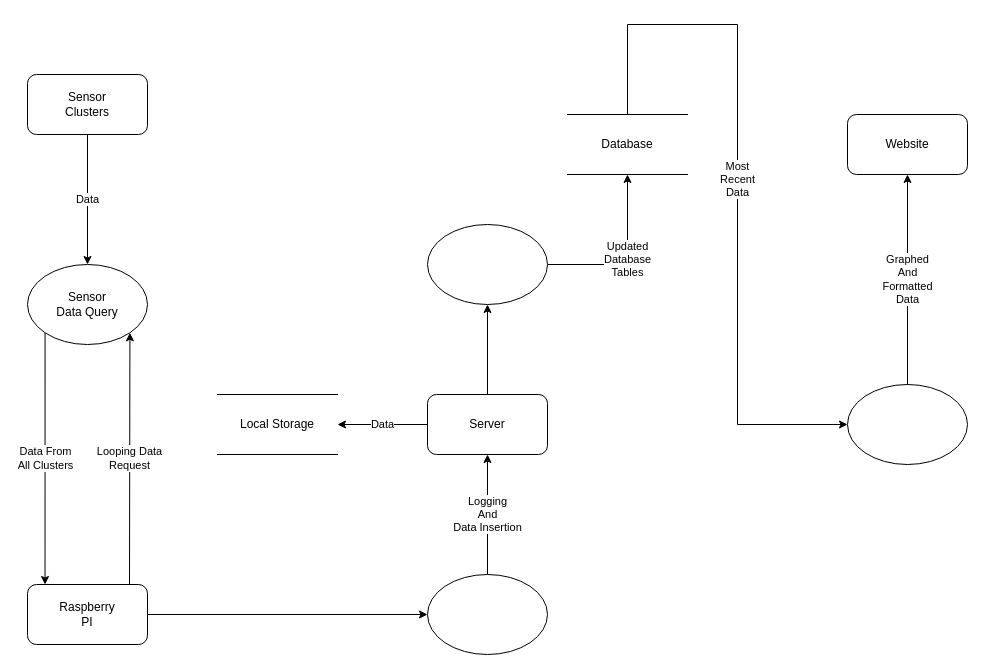
This 985x672 diagram has some shape labels left out. Each missing label, with the centre of its shape:
Aggregated Data Transmission: the point at 487,614
Data Insertion: the point at 487,264
Graphical Data Display: the point at 907,424
